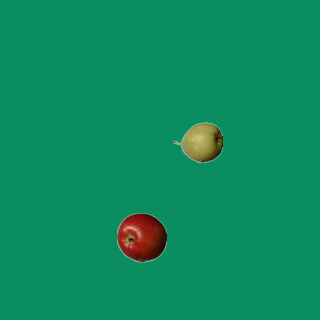Apple Braeburn: (116, 212, 166, 262)
Pear: (172, 117, 222, 167)
